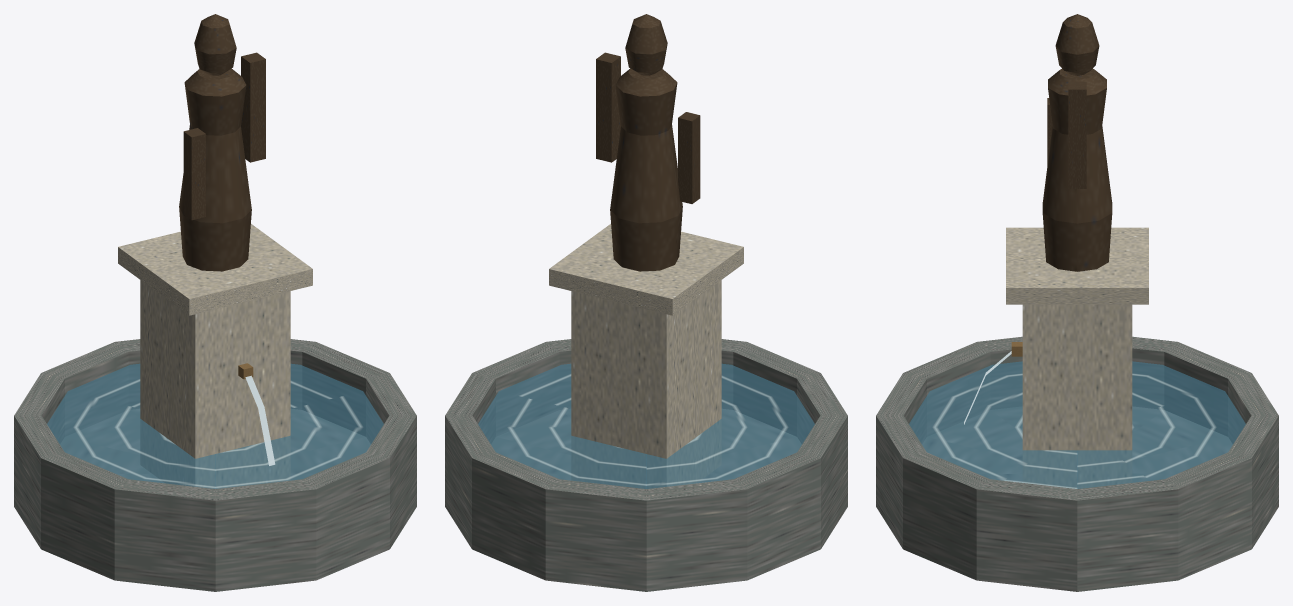
File: brunnen_v6.glb
The picture shows the model from 3 angles, left to right: view 1: azimuth 30°, elevation 25°; view 2: azimuth 150°, elevation 25°; view 3: azimuth 270°, elevation 25°; orthographic projection.
Visible parts, largest first — view 1: V6; view 2: V6; view 3: V6.
Part boxes in pixels (x1,y1,x2,y2): V6: [14, 14, 416, 591]; V6: [445, 14, 847, 591]; V6: [876, 14, 1278, 591].
Size of the model in its own units: 2.2 by 2.97 by 2.2.
2 materials, 2 textured.
